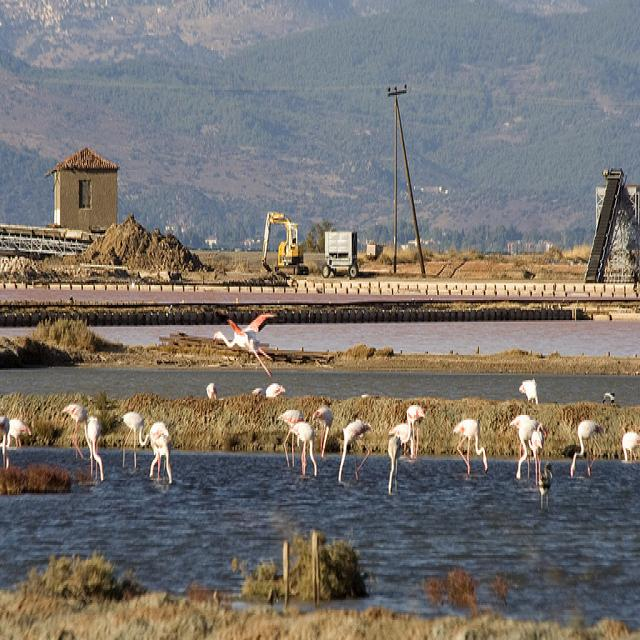Vehicle: (320, 230, 360, 279)
